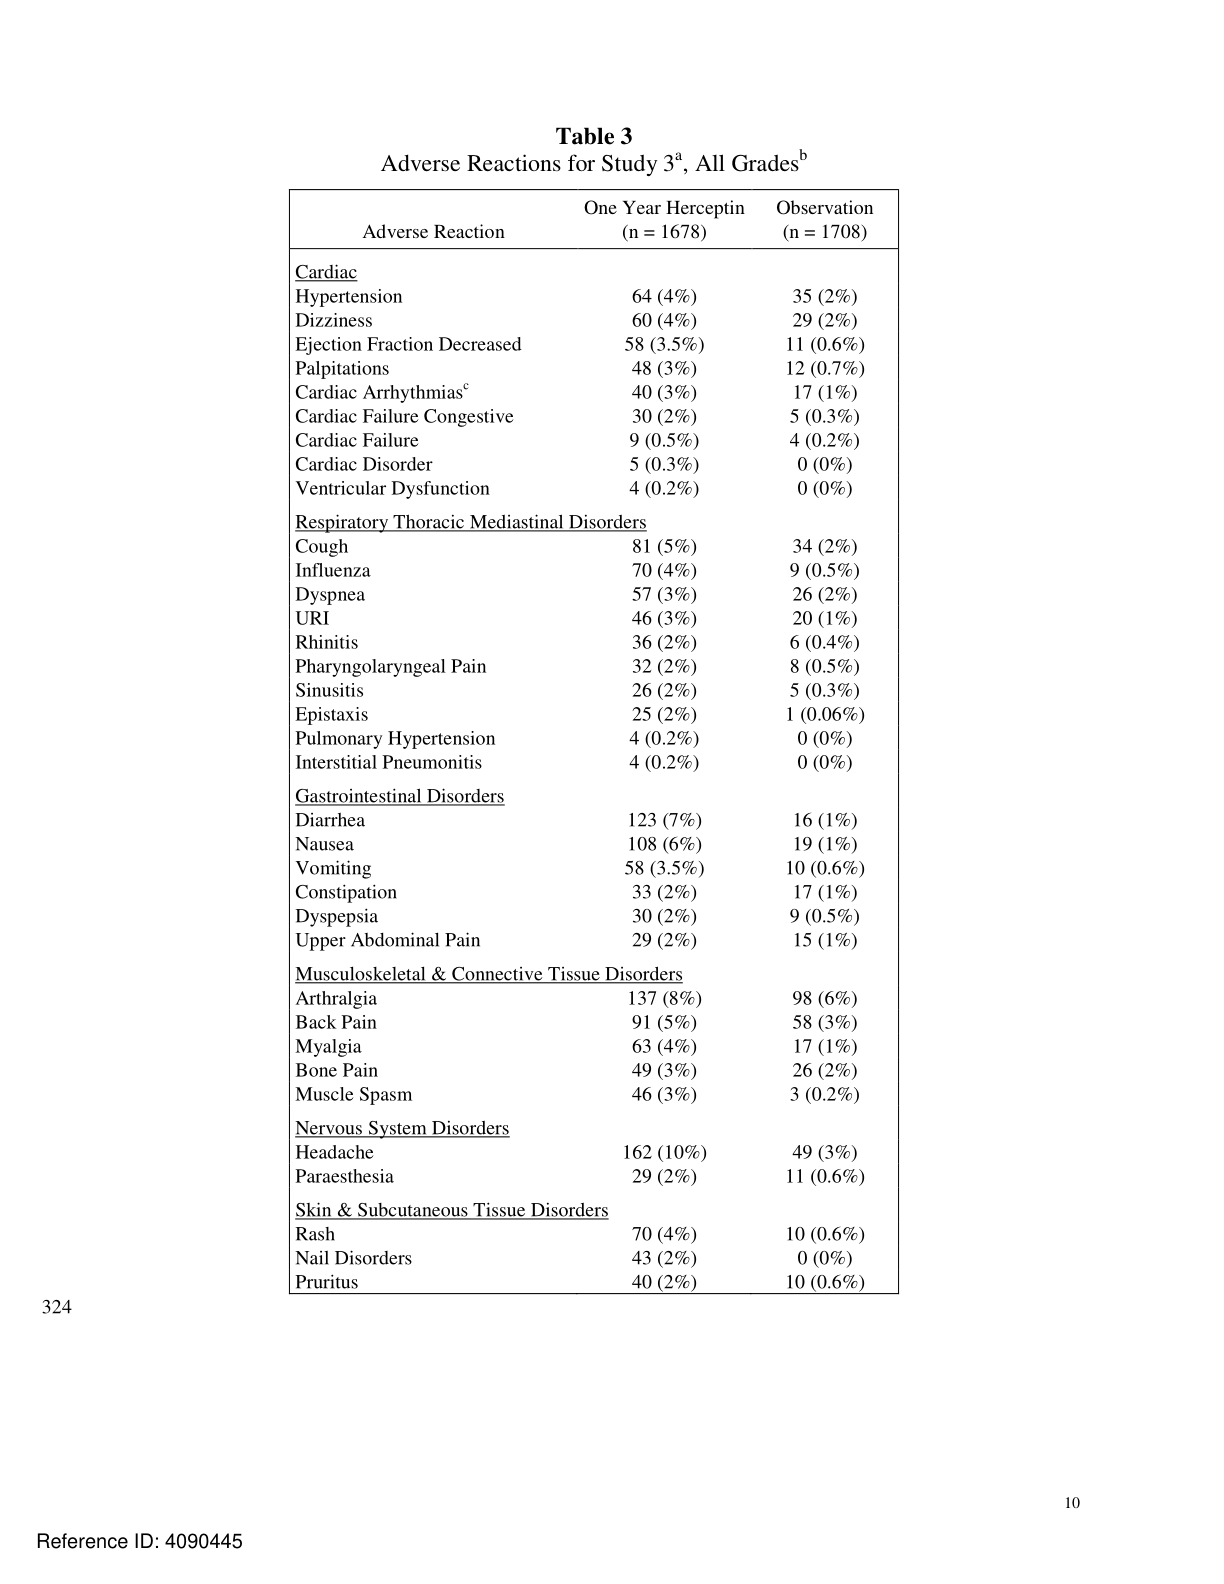partial_lined: (284, 185, 903, 1296)
